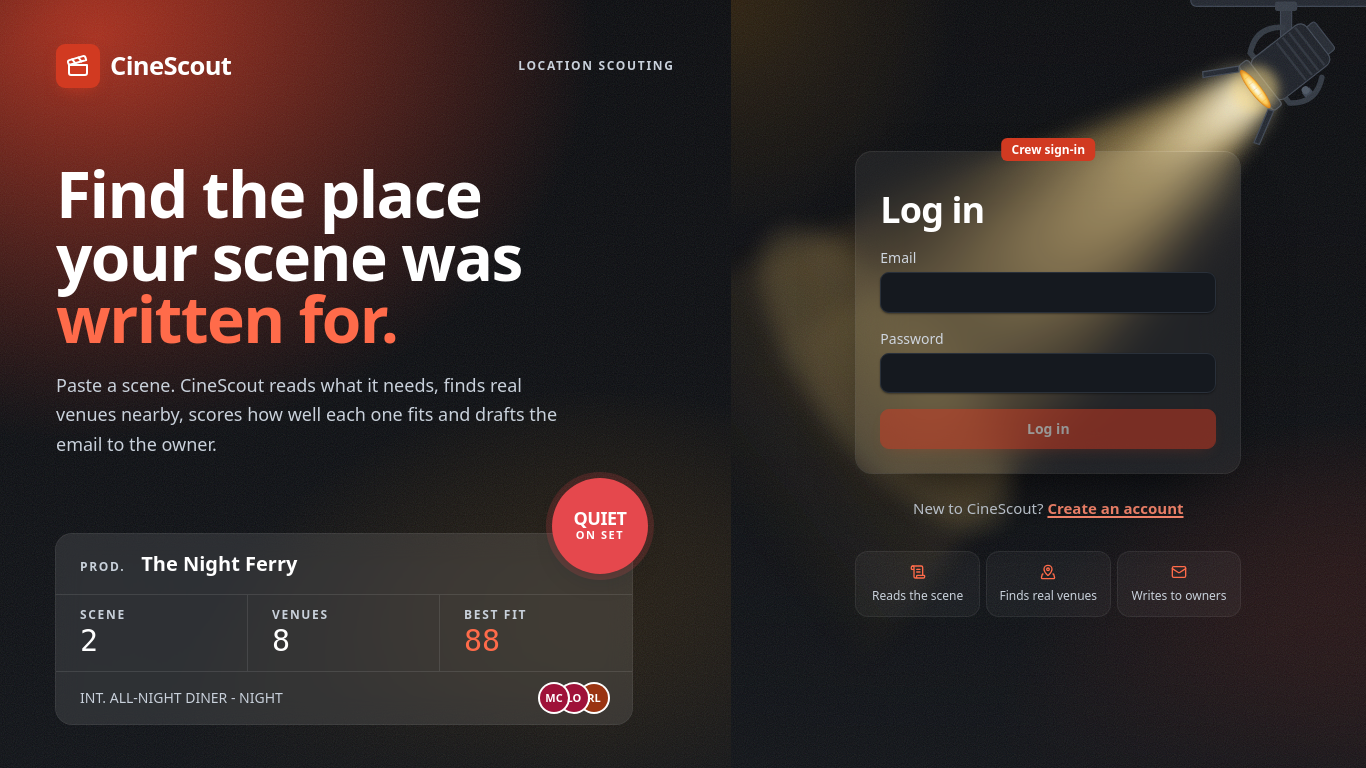
Test case: a scene's locations › cannot be scouted until the project has a location area
Step 1. Type "ada@example.com" into the field labelled "Email" → coordinates (1048, 293), box [880,272,1216,313]
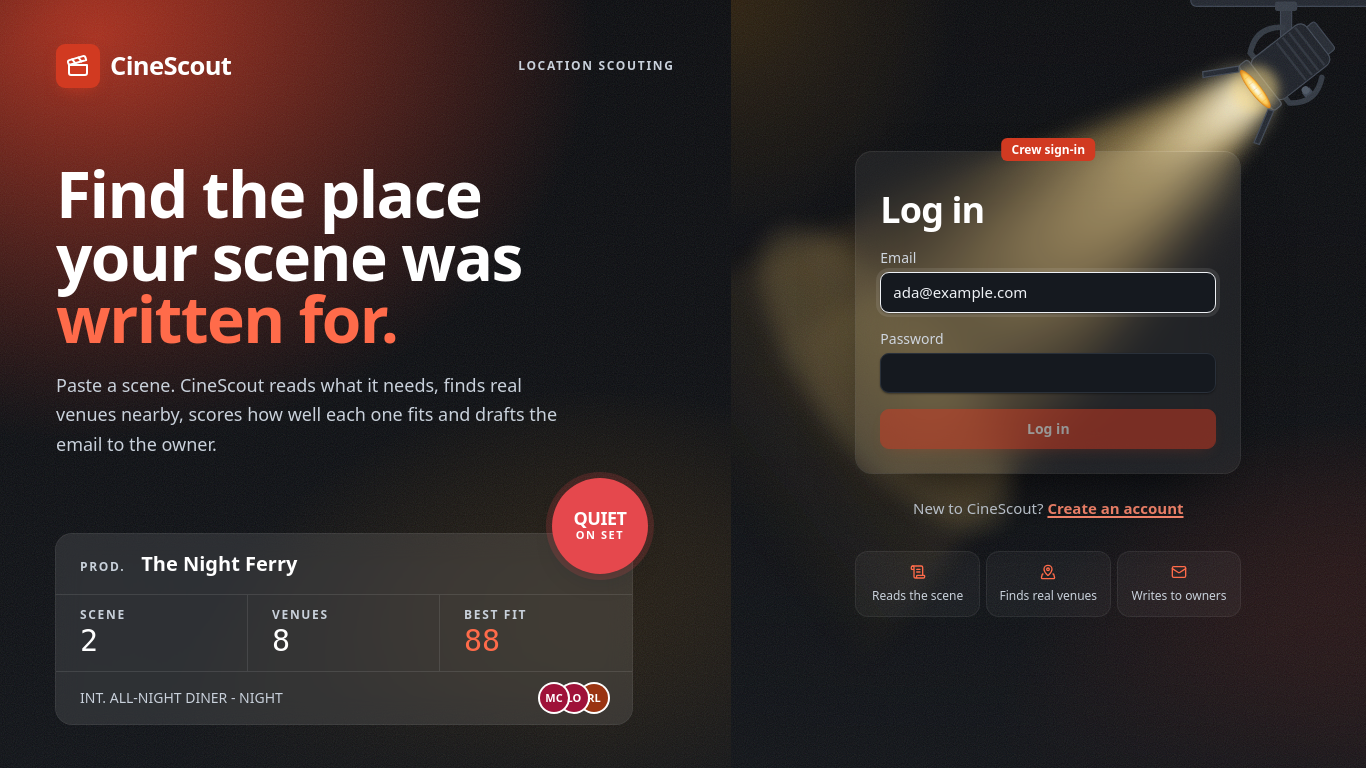
Step 2. Type "a-long-password" into the password field labelled "Password" → coordinates (1048, 373), box [880,353,1216,393]
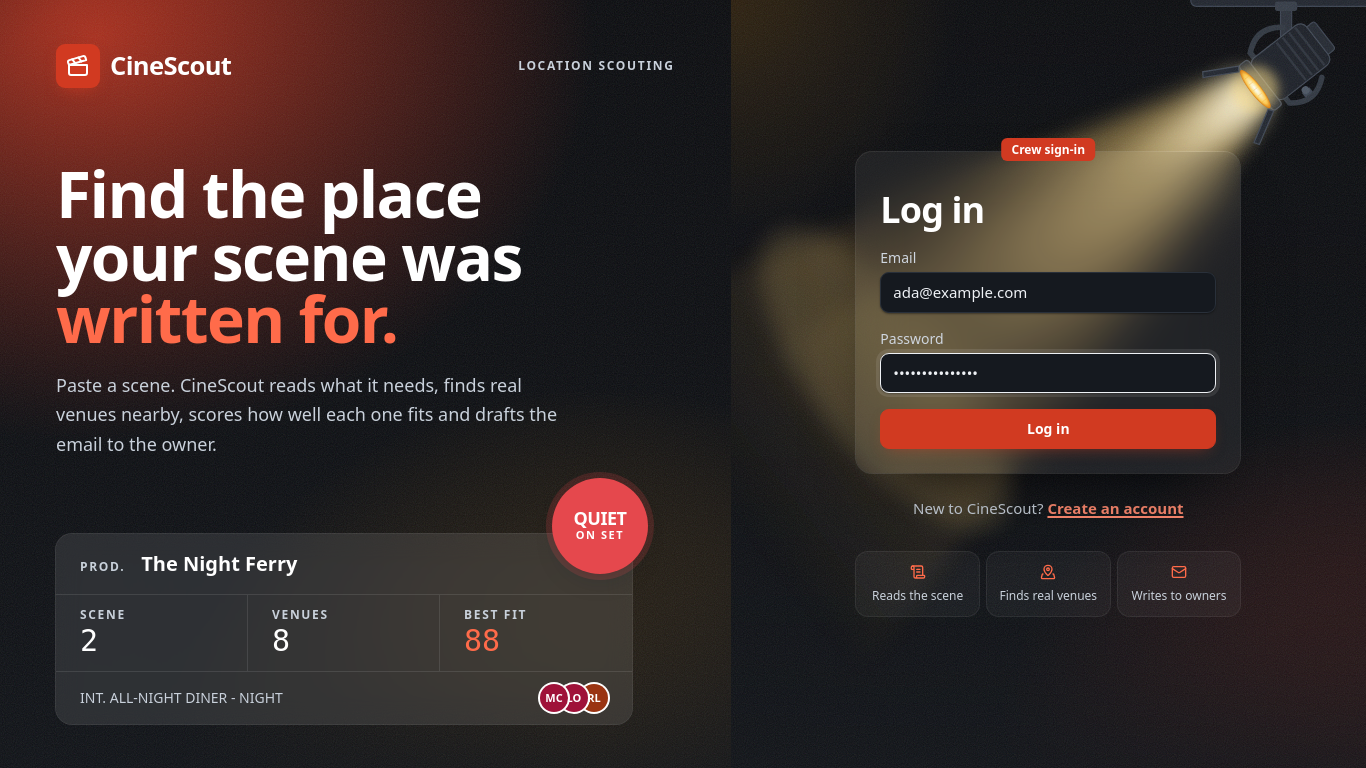
Step 3. Click the button "Log in" → coordinates (1048, 429), box [880,409,1216,449]
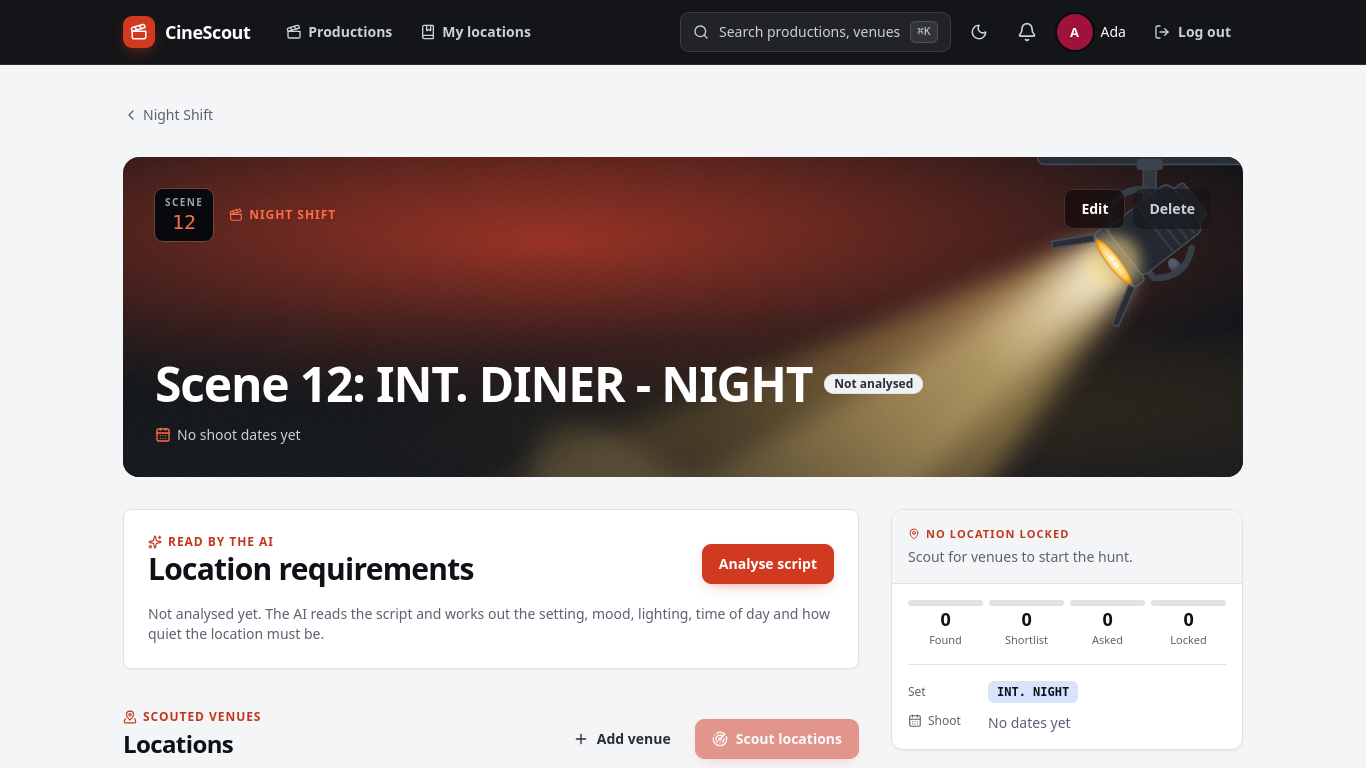
Expected: the button "Scout locations" is disabled, [695,719,859,759]
